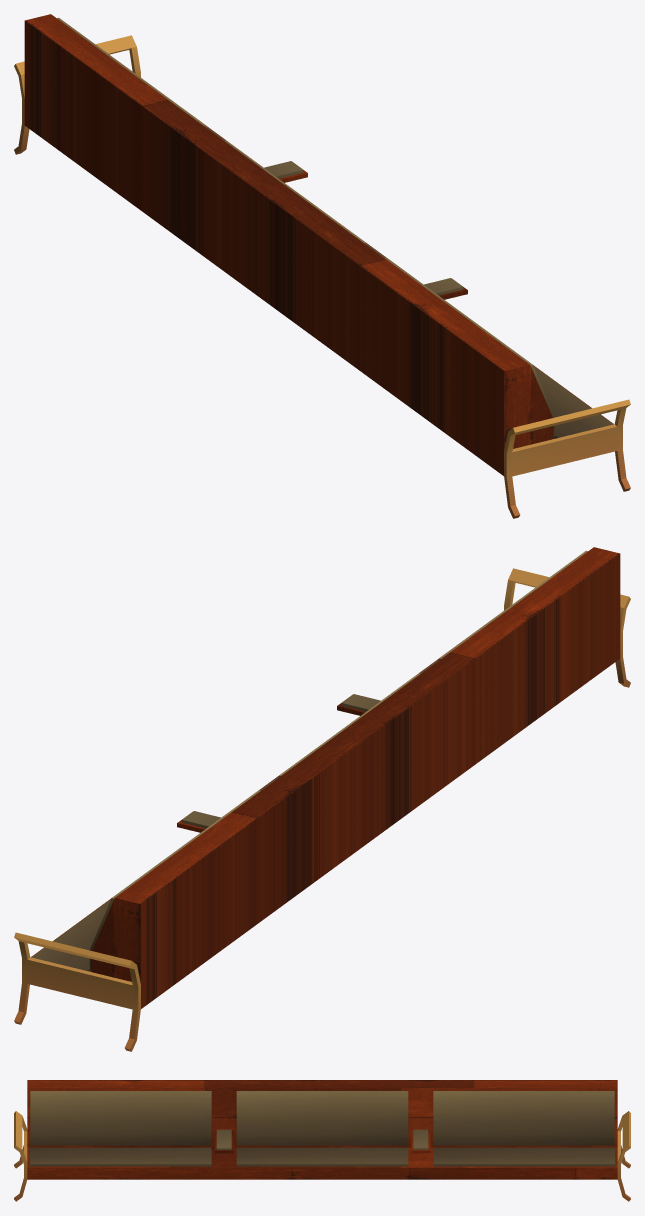
File: LongCouchBench.fbx
3 views of the same model, one above another, from view 1: azimuth 30°, elevation 25°; view 2: azimuth 150°, elevation 25°; view 3: azimuth 270°, elevation 25° (orthographic). The views are drawn at different scales.
Visible parts, largest first — view 1: LongBenchCouch, LongBenchCouchArms; view 2: LongBenchCouch, LongBenchCouchArms; view 3: LongBenchCouch, LongBenchCouchArms.
Part boxes in pixels (<box>): LongBenchCouch: <box>24,14,613,475</box>; LongBenchCouchArms: <box>14,35,630,518</box>; LongBenchCouch: <box>31,547,620,1008</box>; LongBenchCouchArms: <box>14,568,630,1051</box>; LongBenchCouch: <box>27,1080,617,1179</box>; LongBenchCouchArms: <box>14,1111,630,1201</box>.
Bounding box in the file's own units: 246 × 286 × 1841.
